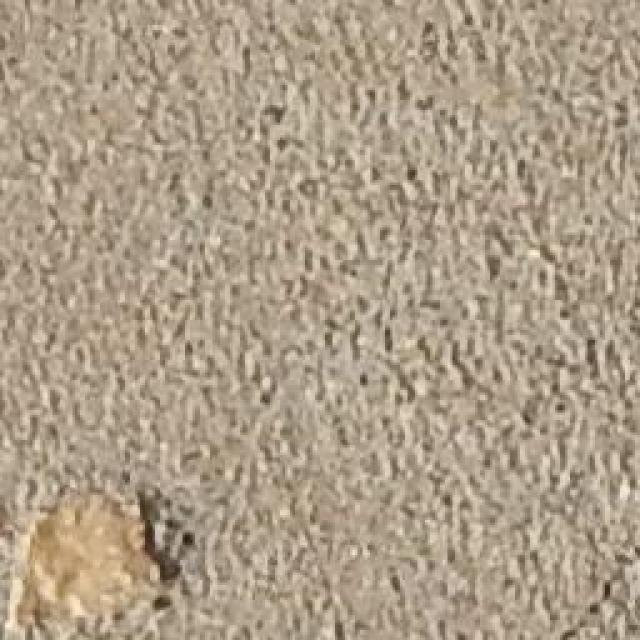concrete-crack: (129, 486, 180, 593)
